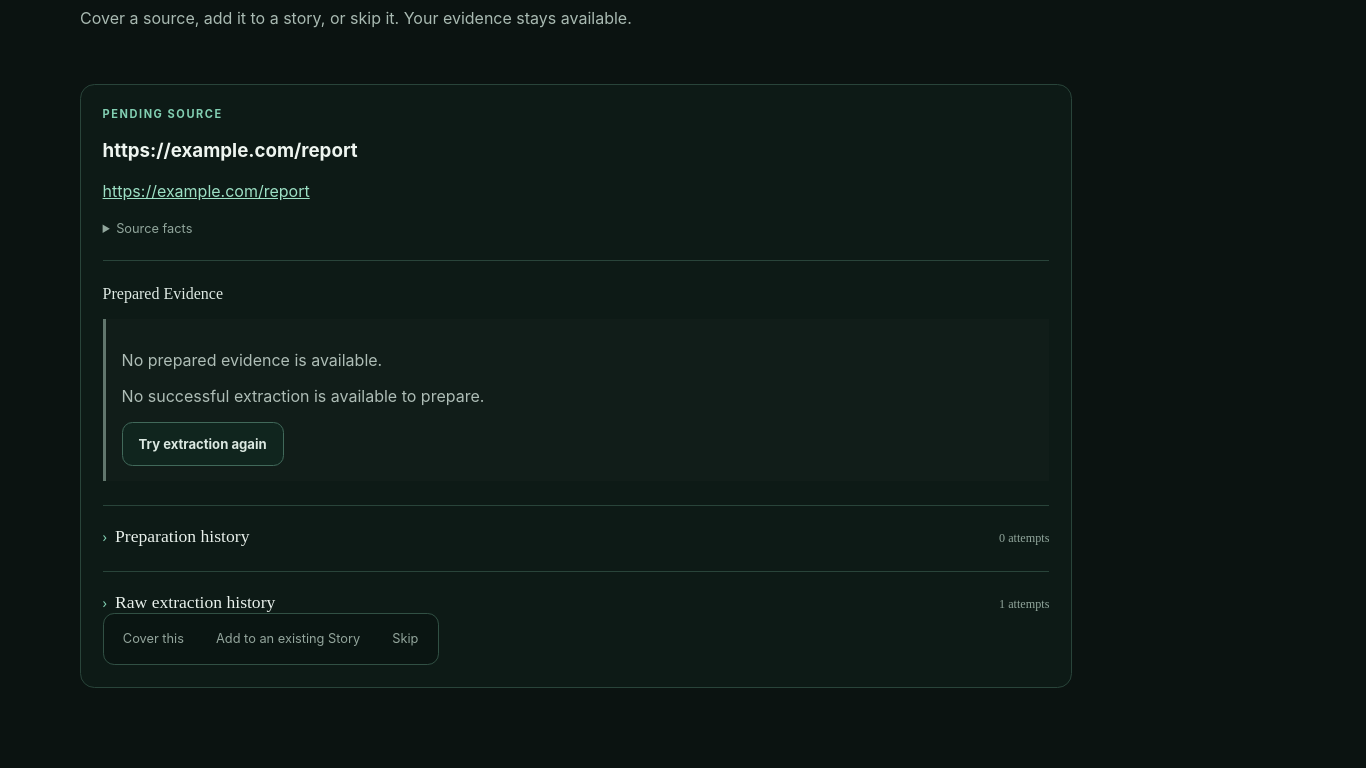
Test: SourceInboxWorkspace › does not offer preparation for a failed raw extraction
The image size is (1366, 768).
(page scrolled)
Expected: the text "No successful extraction is available to prepare." is shown, [122,386,484,406]
Click the text "Raw extraction history": click(189, 602) [103,592,275,613]
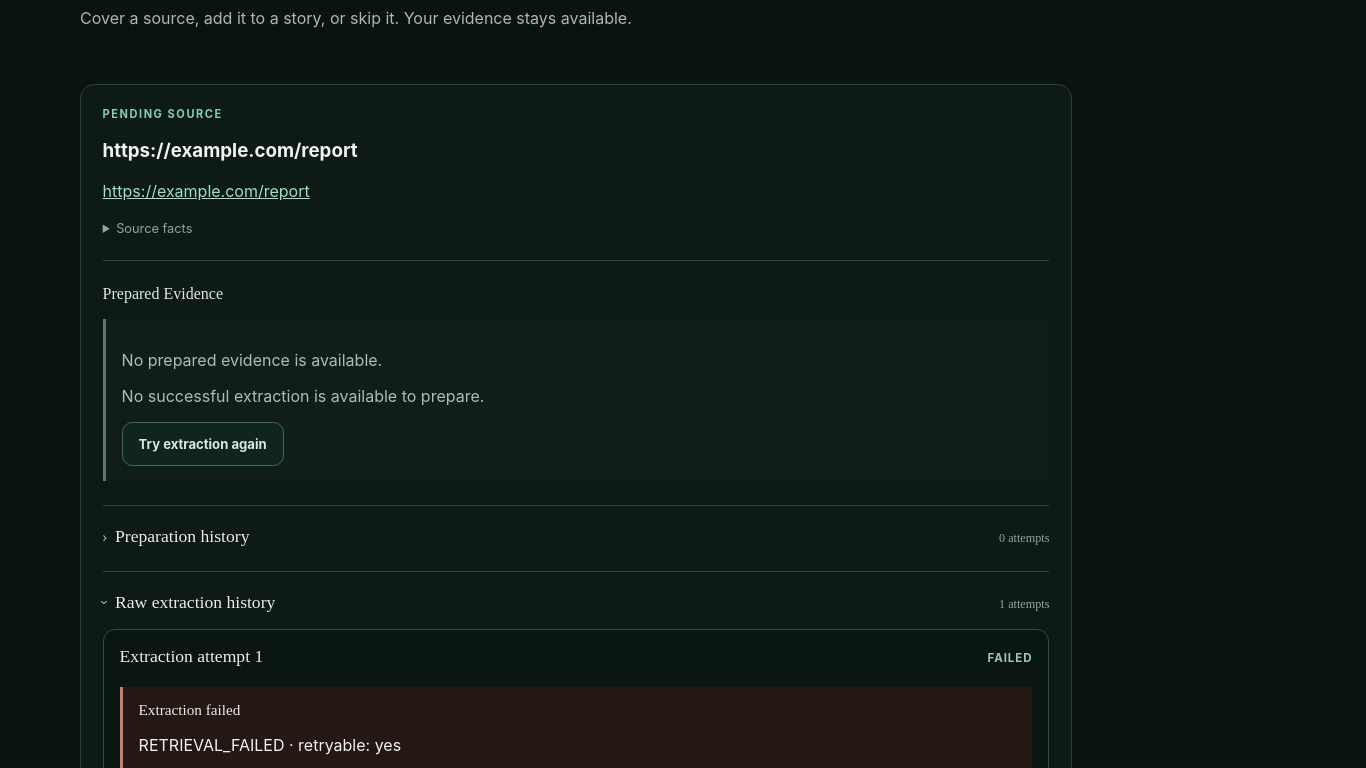
Now the text "RETRIEVAL_FAILED · retryable: yes" is shown, box [139,735,401,755]
